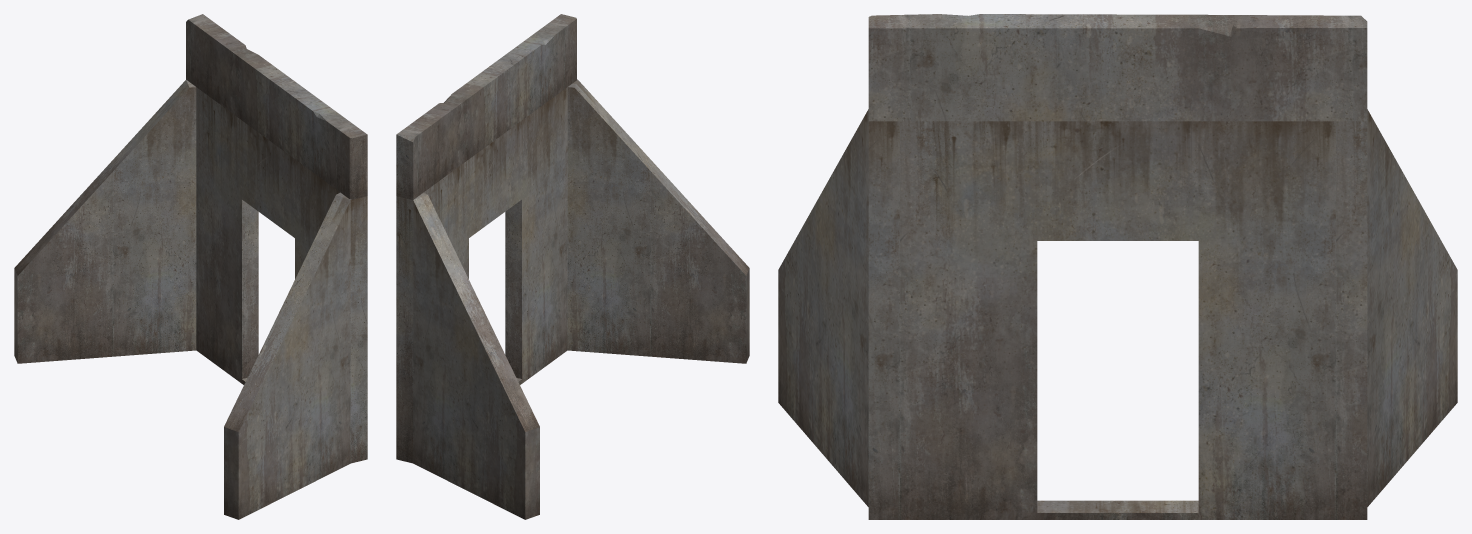
File: bunkerEntrance01.FBX
The picture shows the model from 3 angles, left to right: view 1: azimuth 30°, elevation 25°; view 2: azimuth 150°, elevation 25°; view 3: azimuth 270°, elevation 25°; orthographic projection. The views are drawn at different scales.
Visible parts, largest first — view 1: bunkerEntrance01; view 2: bunkerEntrance01; view 3: bunkerEntrance01.
Part boxes in pixels (x1=…): bunkerEntrance01: x1=14, y1=14, x2=367, y2=519; bunkerEntrance01: x1=396, y1=14, x2=749, y2=519; bunkerEntrance01: x1=778, y1=14, x2=1457, y2=519.
Bounding box in the file's own units: 196 × 371 × 463.
